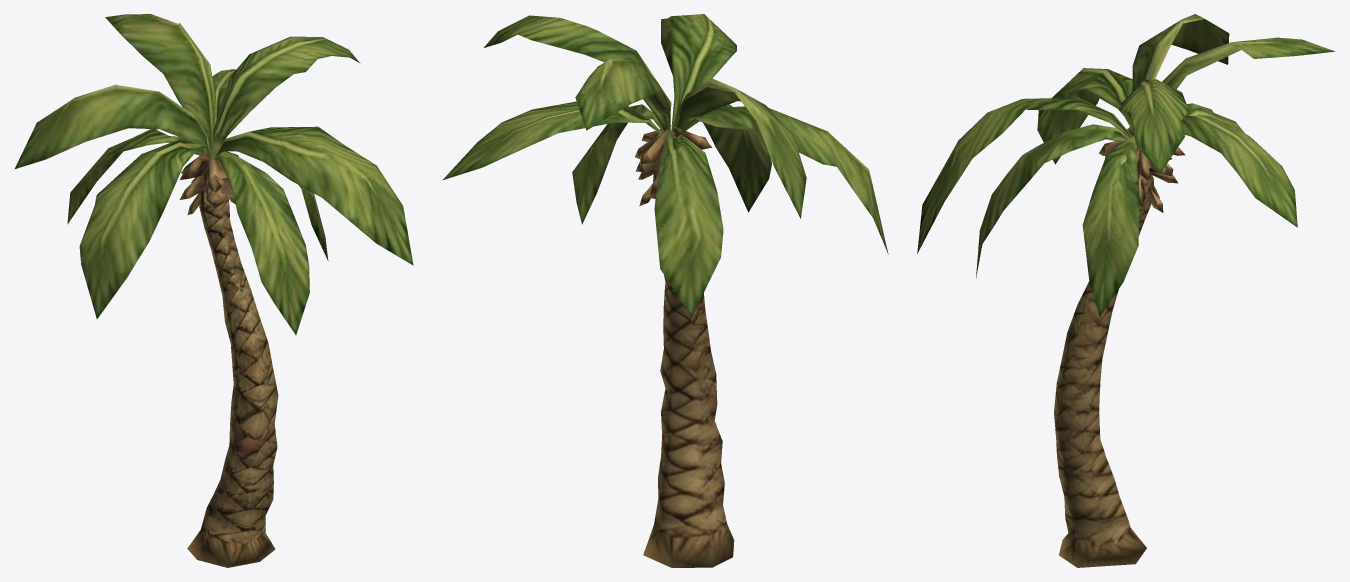
File: tree-palm-01.glb
3 renders of one model, left to right at view 1: azimuth 30°, elevation 25°; view 2: azimuth 150°, elevation 25°; view 3: azimuth 270°, elevation 25°, orthographic. The views are drawn at different scales.
Bounding box in the file's own units: 0.6558 × 0.9531 × 0.7041.
1 material, 1 textured.
